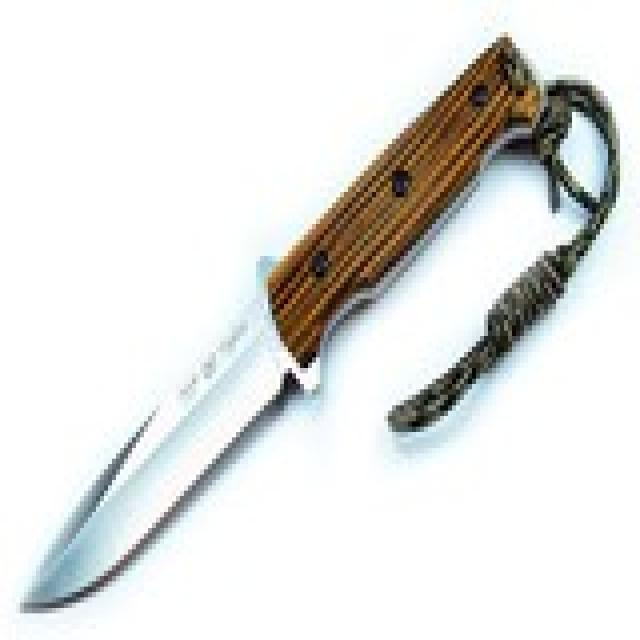Knife: (12, 27, 538, 629)
